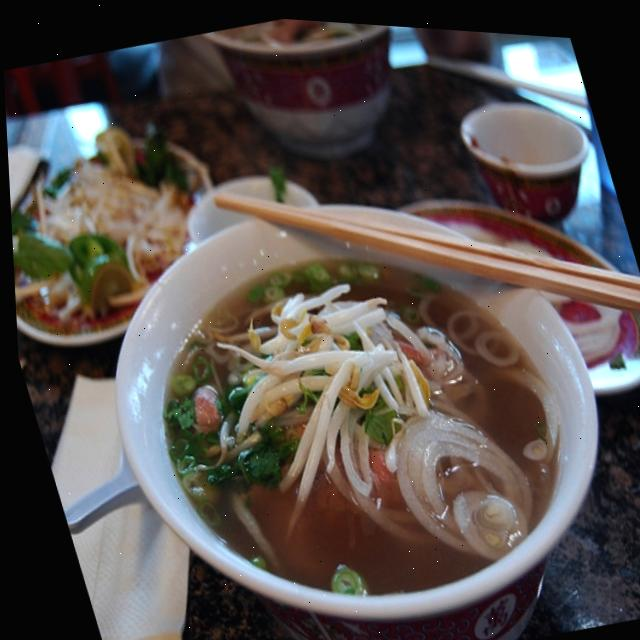面条主食: (17, 76, 640, 640)
